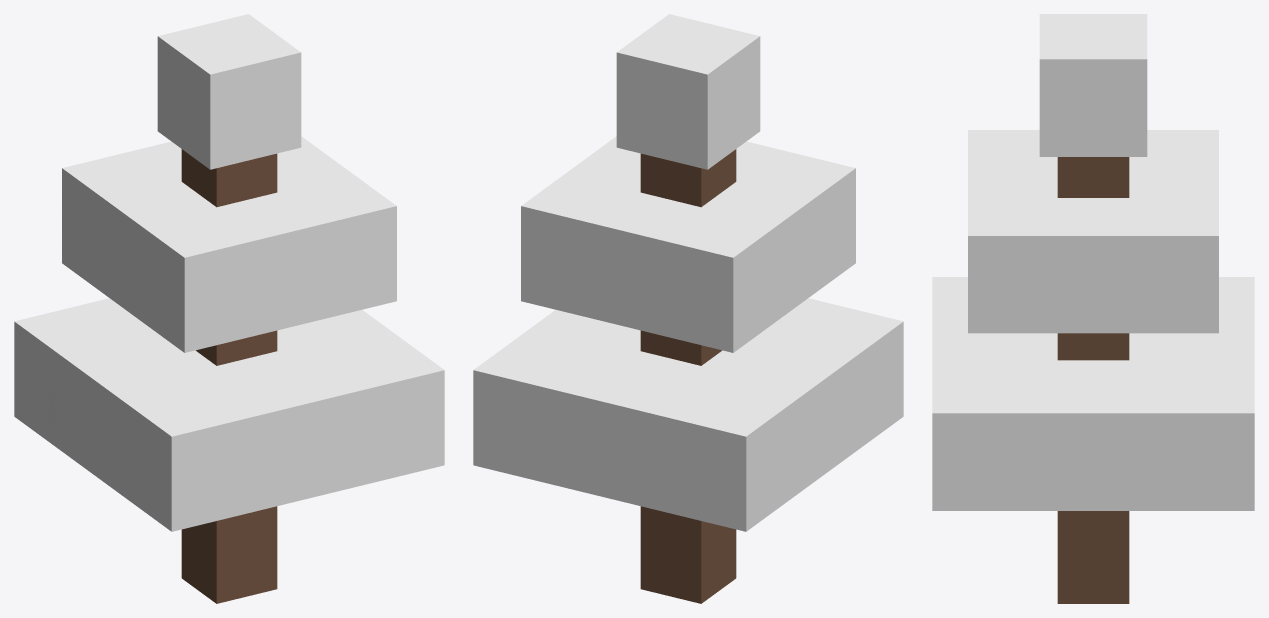
Rendered from tree01.fbx.
The picture shows the model from 3 angles, left to right: view 1: azimuth 30°, elevation 25°; view 2: azimuth 150°, elevation 25°; view 3: azimuth 270°, elevation 25°; orthographic projection. The views are drawn at different scales.
Parts seen in each view (by area): view 1: color_, color__1, color__2, Matrix_1; view 2: color_, color__1, color__2, Matrix_1; view 3: color_, color__1, color__2, Matrix_1.
Part boxes in pixels (box(x1,y1,x2,y2)): color_: box(14, 298, 444, 531); color__1: box(62, 136, 396, 352); color__2: box(157, 14, 301, 169); Matrix_1: box(181, 149, 277, 603); color_: box(473, 298, 903, 531); color__1: box(521, 136, 855, 352); color__2: box(616, 14, 760, 169); Matrix_1: box(640, 149, 736, 603); color_: box(932, 277, 1254, 510); color__1: box(968, 130, 1218, 333); color__2: box(1039, 14, 1147, 156); Matrix_1: box(1057, 157, 1129, 603).
Bounding box in the file's own units: 18 × 34 × 18.
1 material, 1 textured.
